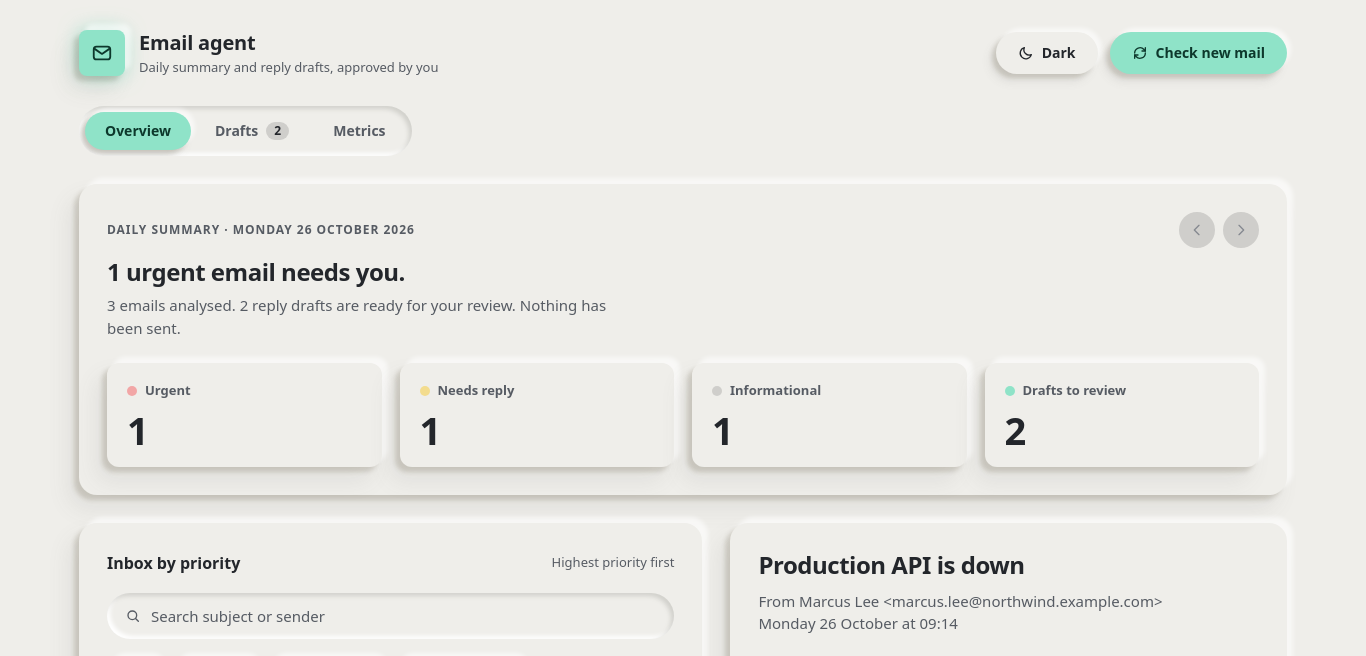
Test: App › says so when there is no new mail
Click the button "Check new mail".
click(1198, 53)  # box [1110,32,1287,74]
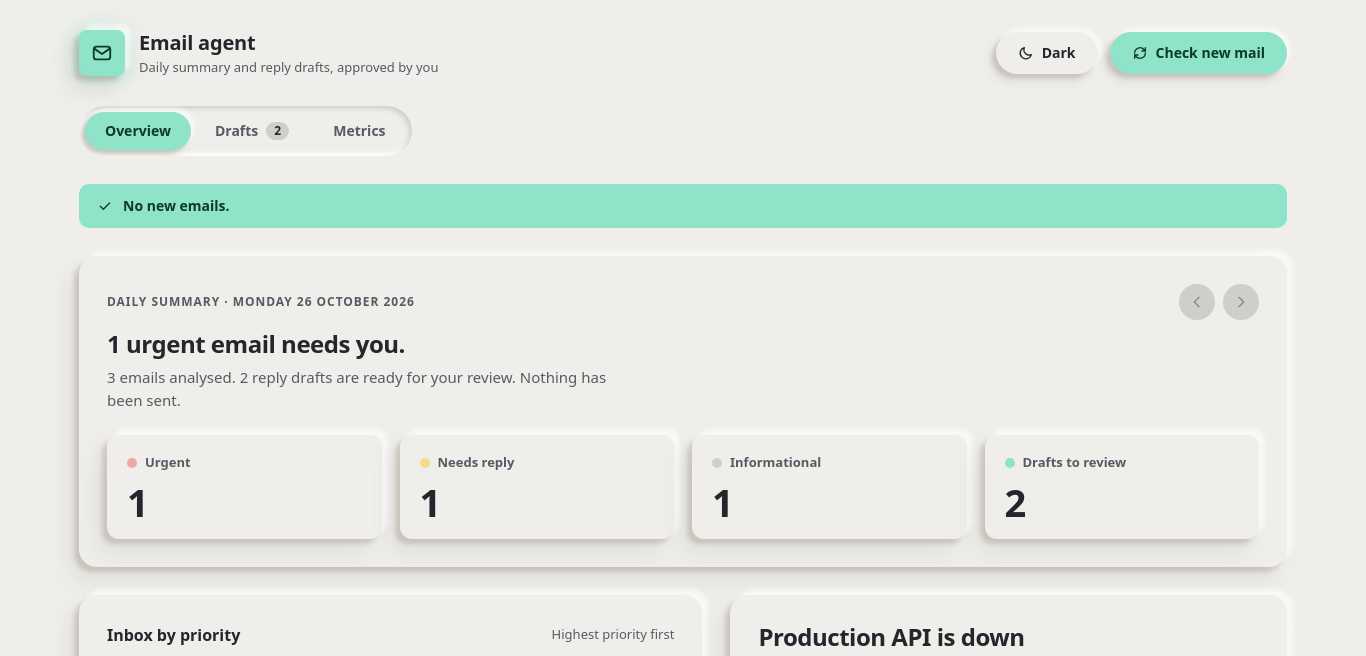
Expected: the text "No new emails." is shown, [79,184,1287,228]
